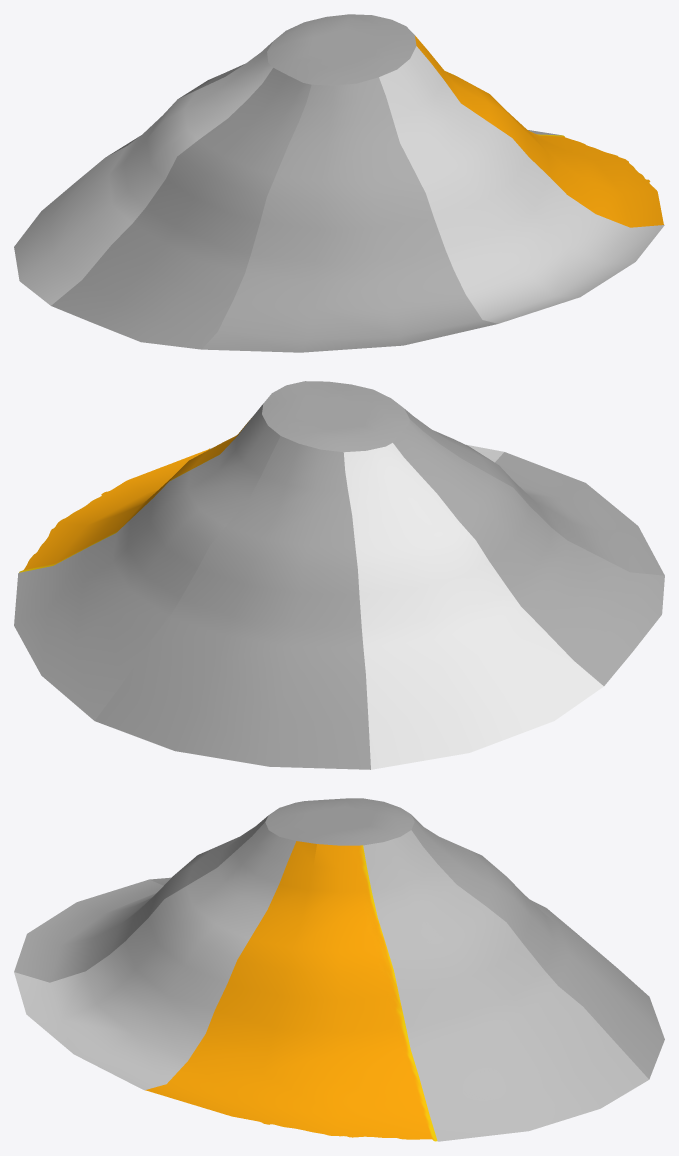
The model's file is mushroomJuneUnderhat 1.fbx.
The picture shows the model from 3 angles, top to bottom: view 1: azimuth 30°, elevation 25°; view 2: azimuth 150°, elevation 25°; view 3: azimuth 270°, elevation 25°; orthographic projection.
Parts seen in each view (by area): view 1: underHat; view 2: underHat; view 3: underHat.
Boxes of the visible parts, <box> form: underHat: <box>14,14,664,352</box>; underHat: <box>14,381,664,769</box>; underHat: <box>14,798,664,1141</box>.
Size of the model in its own units: 4.95 by 1.89 by 4.95.
8 materials, 1 textured.
